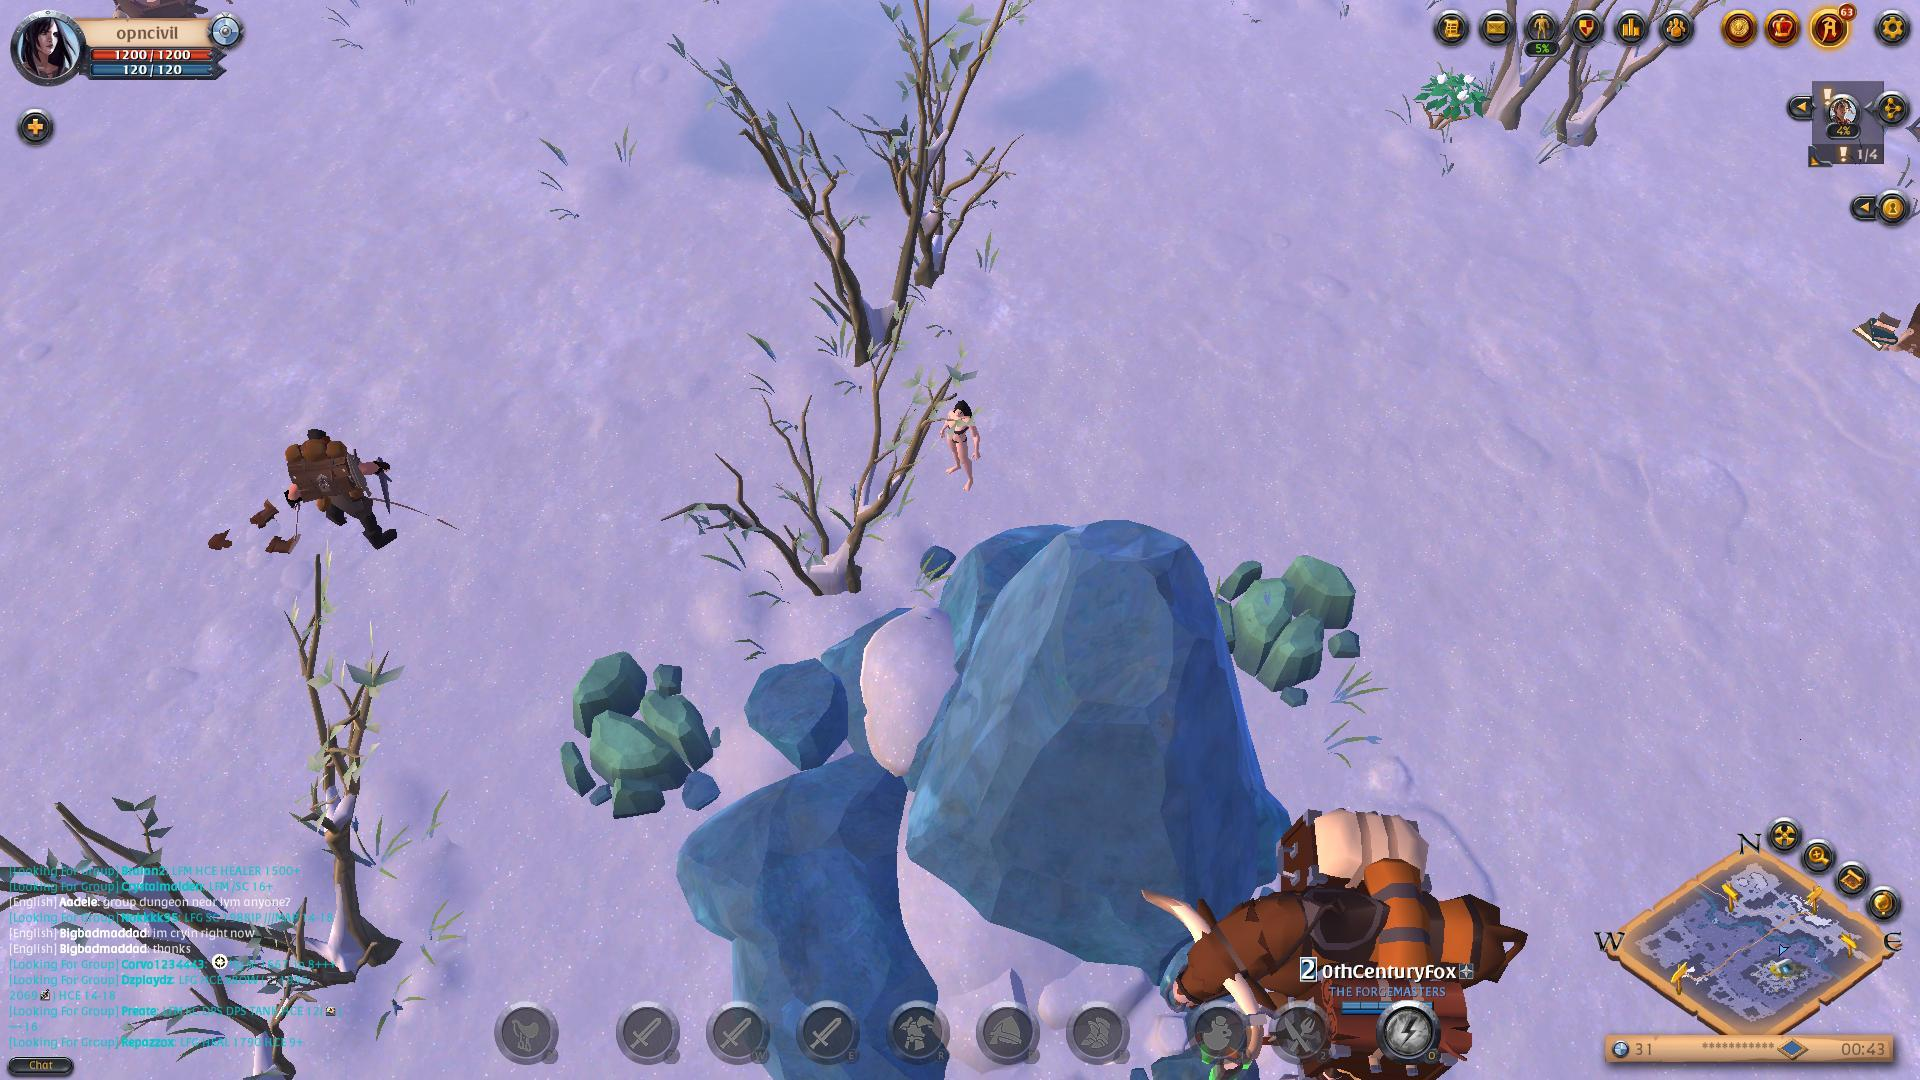flax: (1411, 61, 1491, 142)
mob: (269, 419, 409, 554)
sandstone: (554, 651, 728, 828), (1213, 534, 1365, 703)
tin_ore: (1149, 1021, 1287, 1080)
